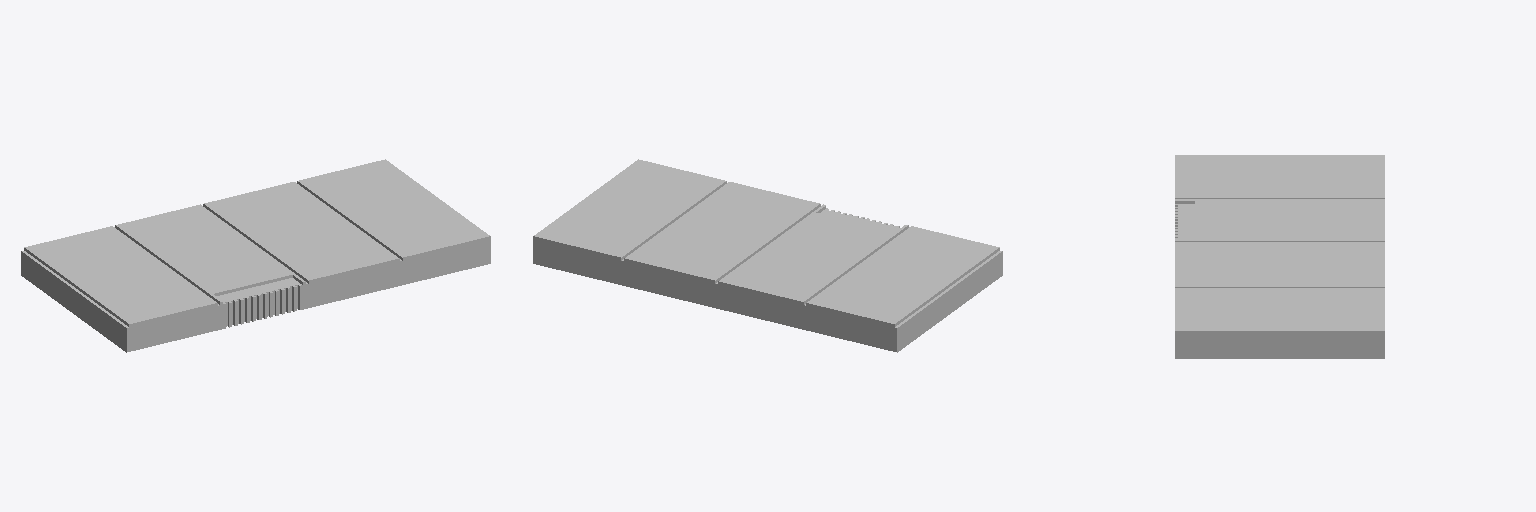
Rendered from tile acera con alcantarilla.obj.
3 views of the same model, side by side, from view 1: azimuth 30°, elevation 25°; view 2: azimuth 150°, elevation 25°; view 3: azimuth 270°, elevation 25° (orthographic).
Parts seen in each view (by area): view 1: object 1; view 2: object 1; view 3: object 1.
Part boxes in pixels (x1,y1,x2,y2): object 1: (21, 159, 490, 352); object 1: (533, 159, 1002, 352); object 1: (1175, 155, 1384, 358).
Size of the model in its own units: 12.4 by 0.9 by 6.2.